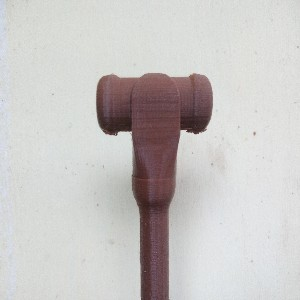palu: (95, 72, 214, 300)
